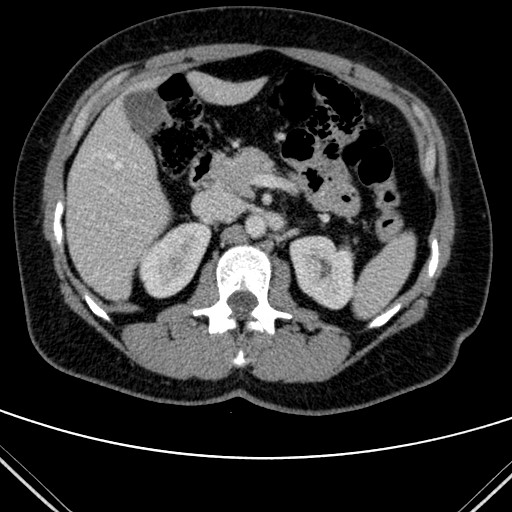vesicula: (121, 87, 172, 143)
